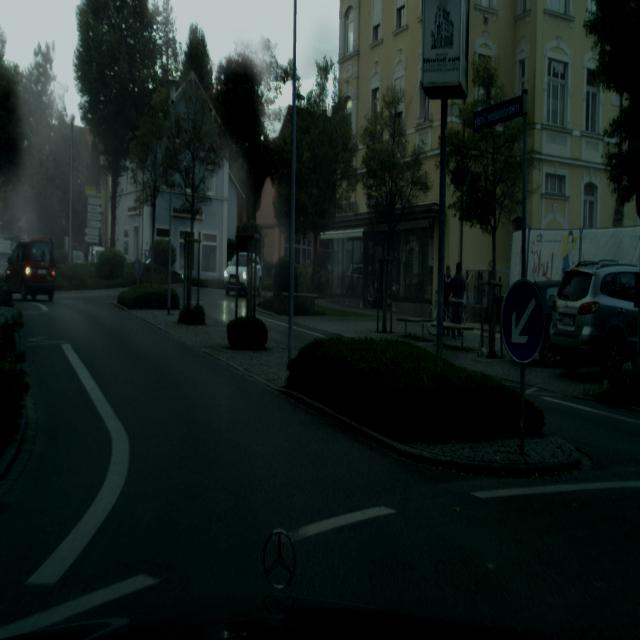bus: (448, 261, 466, 337), (443, 264, 453, 321)
person: (549, 261, 640, 379), (5, 238, 56, 302), (224, 251, 262, 298)
